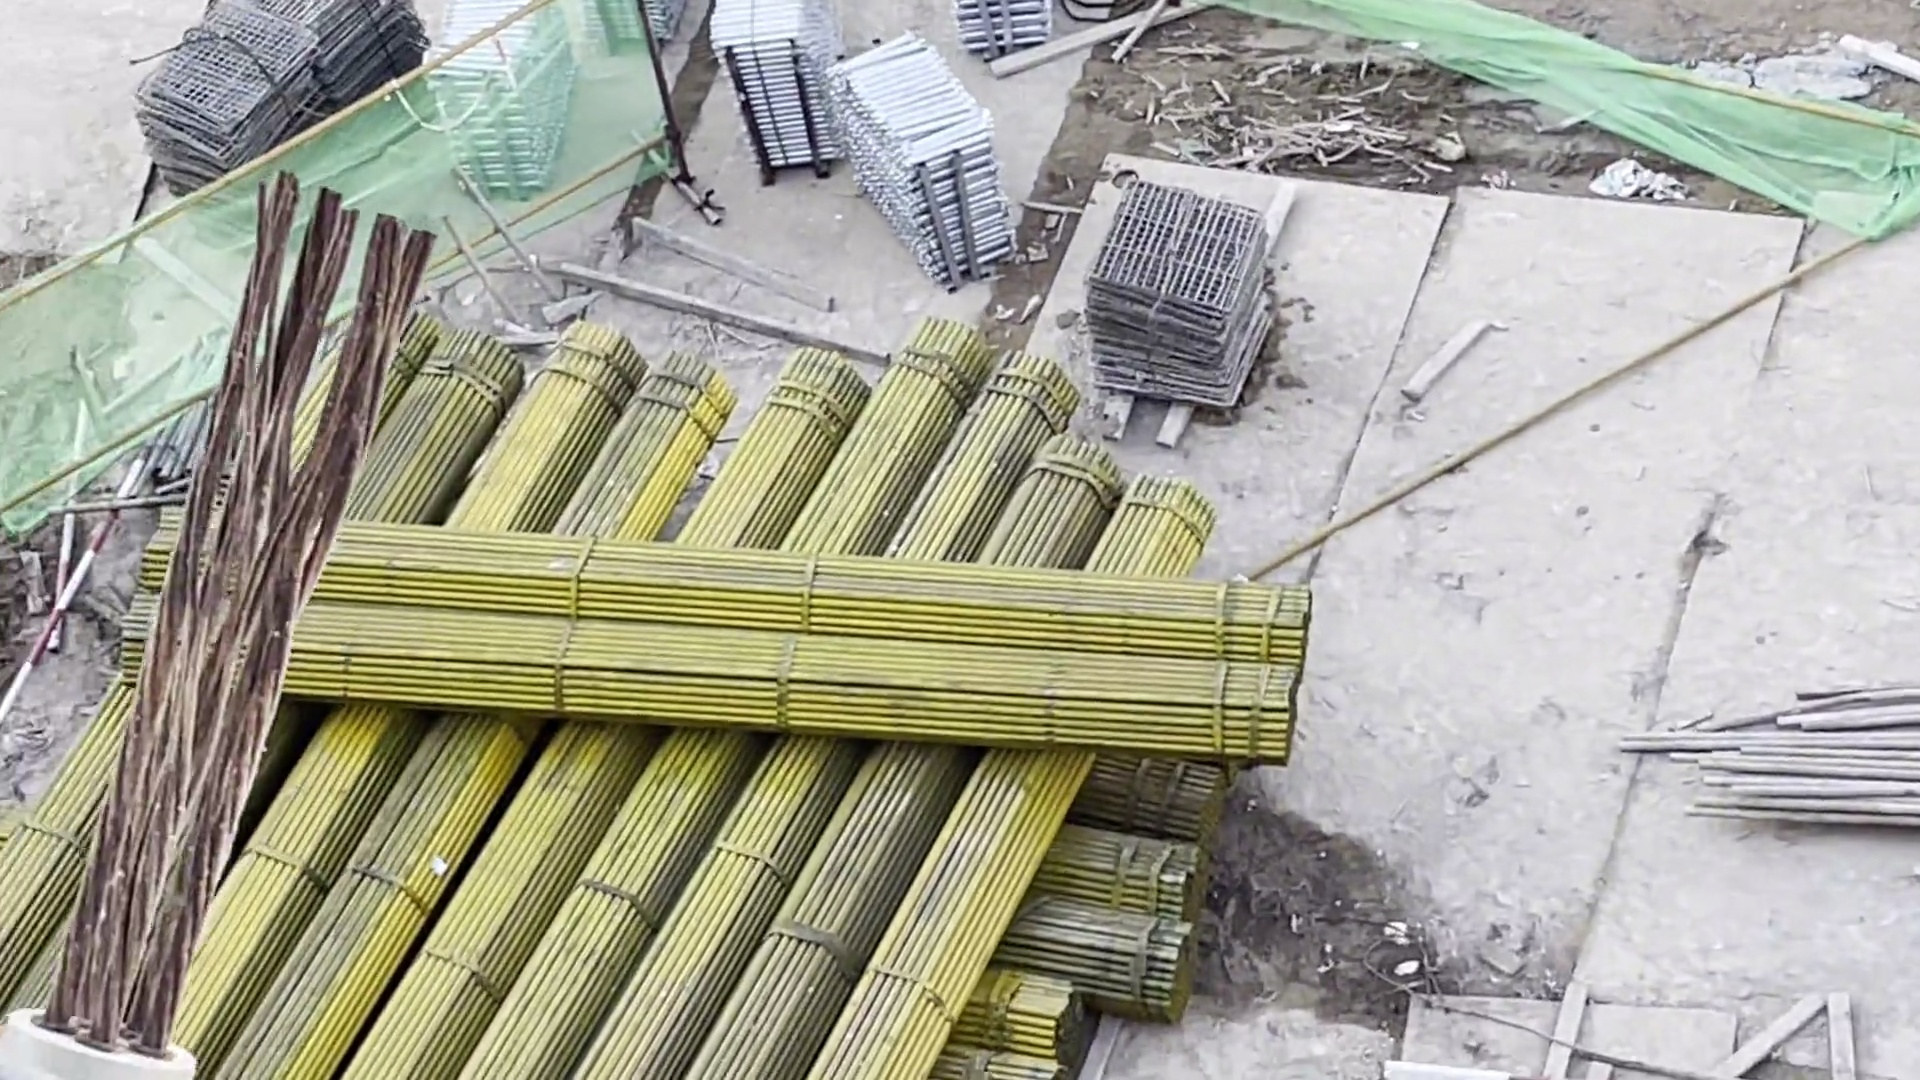scaffold: (822, 32, 1034, 285), (426, 1, 562, 190), (723, 1, 837, 182)
